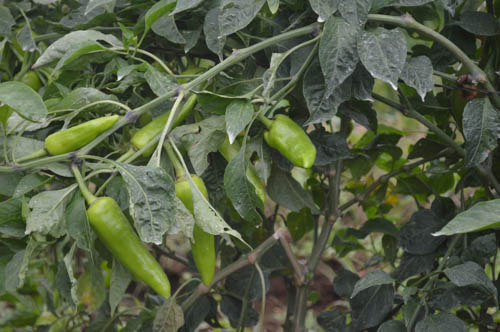ChiliPepper: (87, 197, 177, 301), (174, 176, 220, 285), (124, 94, 199, 159), (214, 140, 270, 209), (264, 112, 321, 176), (45, 116, 120, 154)
